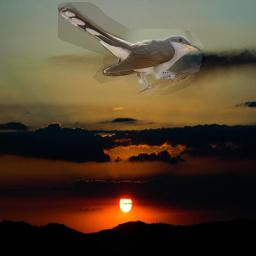Cuckoo: (58, 2, 204, 95)
